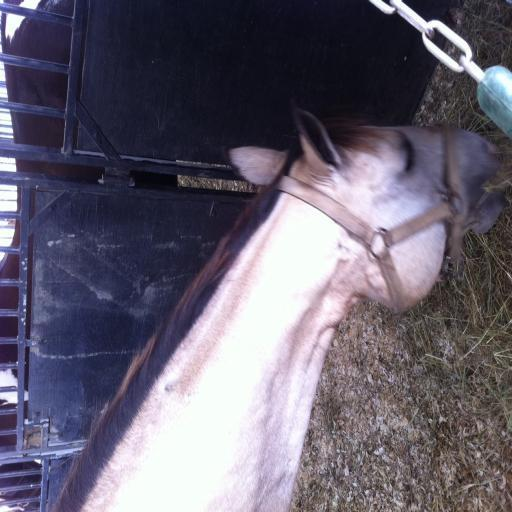horse: (50, 92, 505, 512)
